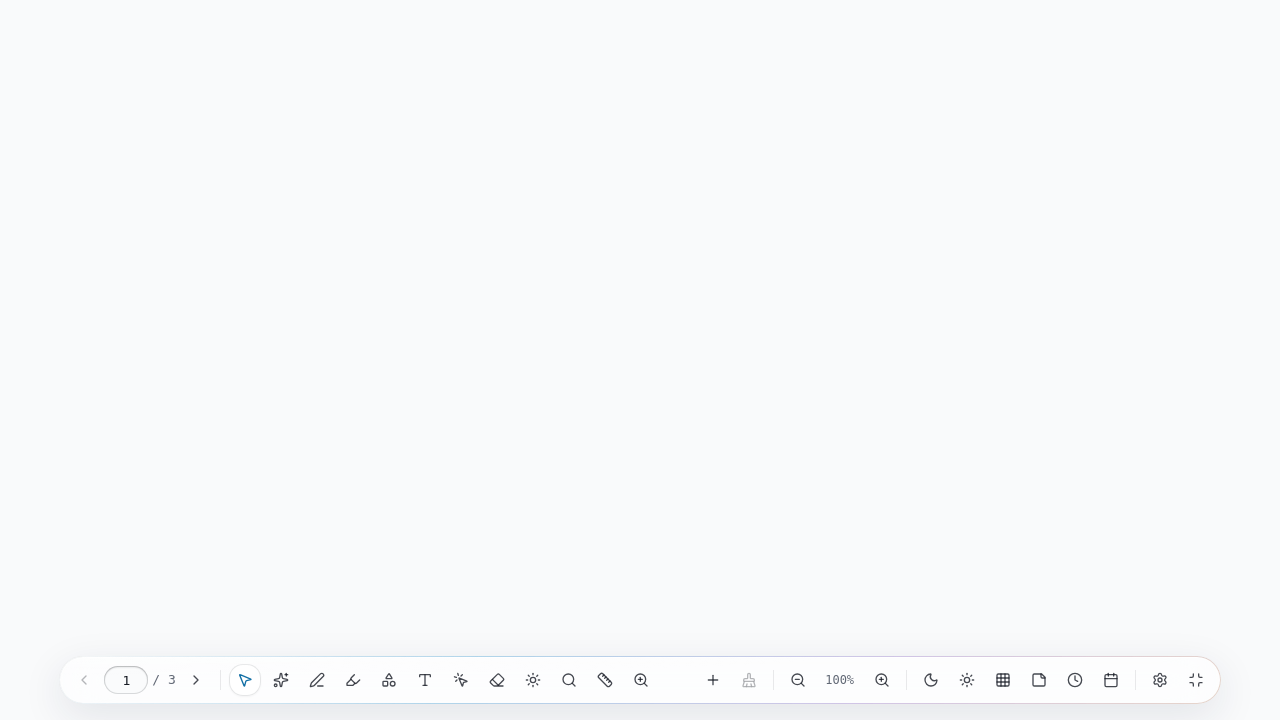
Test case: PresenterBar › closes the settings panel on a click outside it
Click the button named "Presentation settings" at coordinates (1160, 680), box x1=1144 y1=664 x2=1176 y2=696
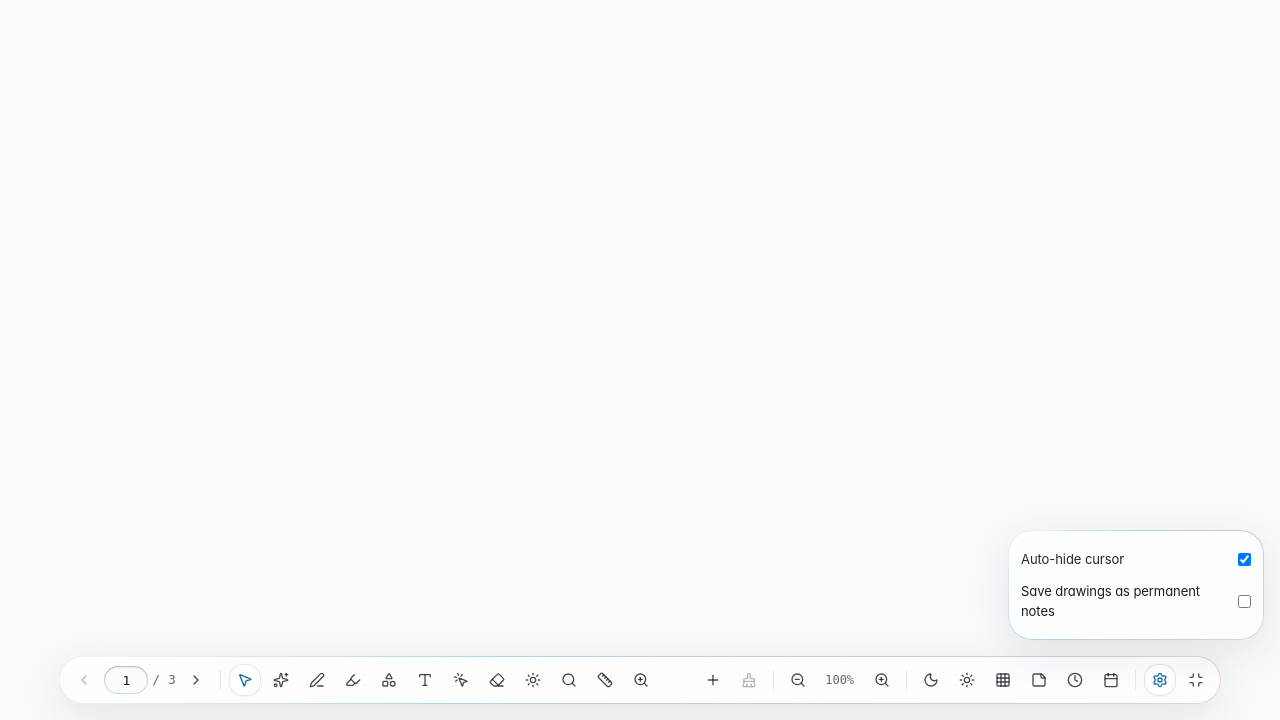
Now the checkbox labelled "Auto-hide cursor" is shown, box x1=1238 y1=552 x2=1251 y2=566
Press the mouse on the element showing "/ 3 100% Auto-hide cursor Save drawings as permanent notes" at coordinates (640, 360), box x1=0 y1=0 x2=1279 y2=719
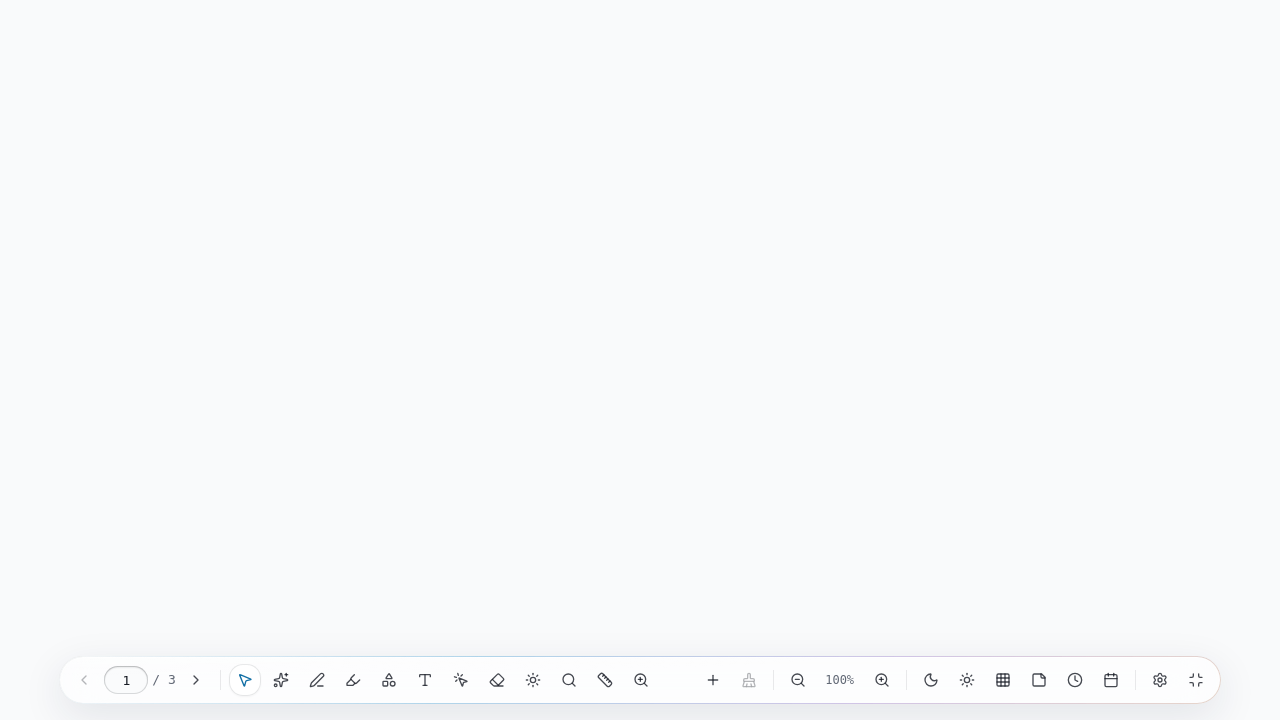
Now the label "cursor" is gone
